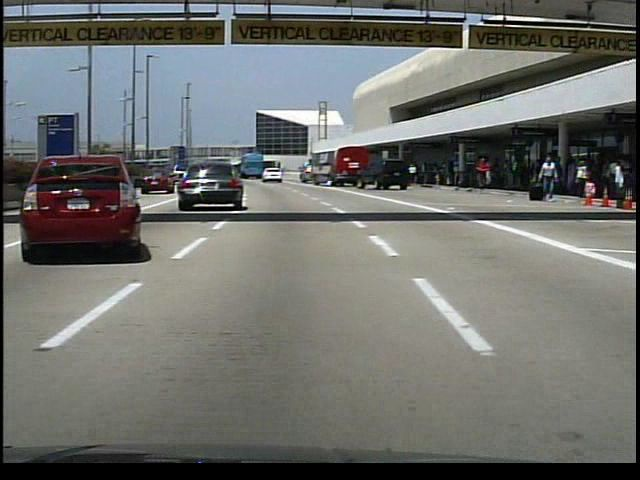person: (533, 152, 558, 201), (474, 155, 493, 188), (510, 154, 526, 189), (444, 157, 455, 186), (407, 163, 419, 187)
